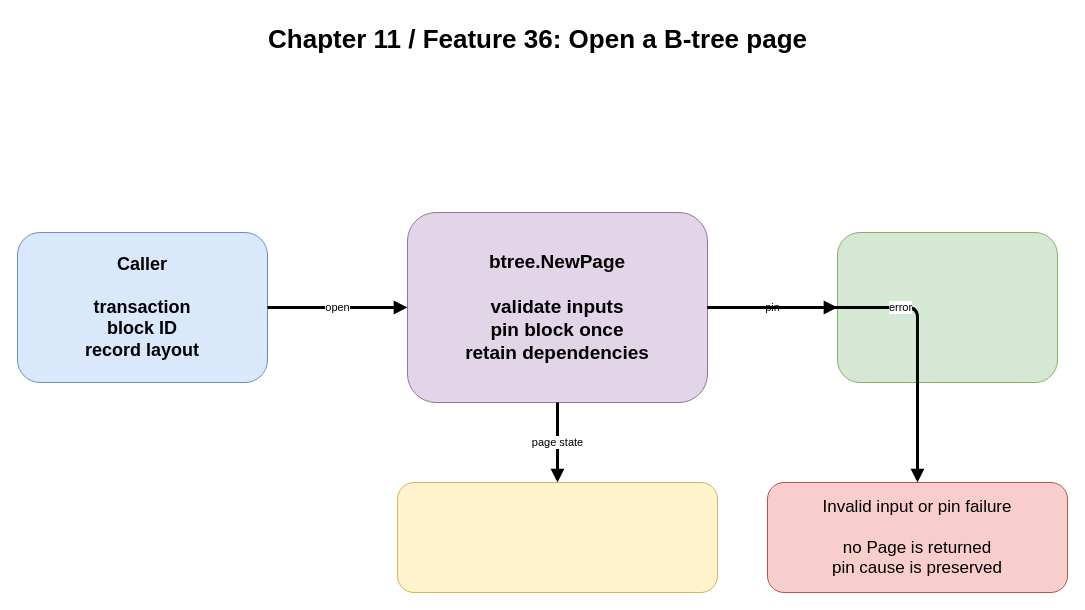
The diagram is 1085 pixels wide and 610 high, and some of its shapes have lost their labels. Here are the shapes that lost their labels. From the top down, the box of each, then its label:
(836, 232, 1058, 382): Transaction Pin(block)
(396, 482, 718, 592): Successful result current block remains pinned page keeps its layout
